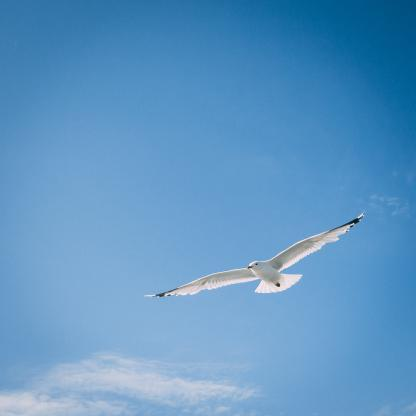bird: (144, 210, 364, 297)
